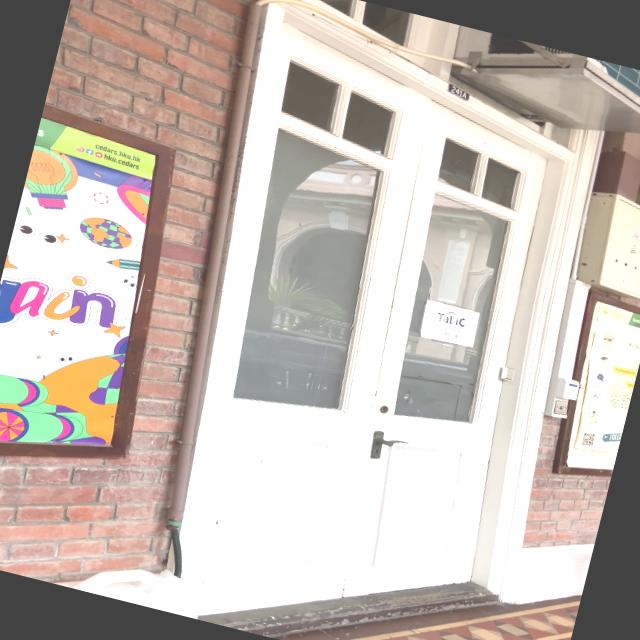room241a: (444, 81, 472, 102)
